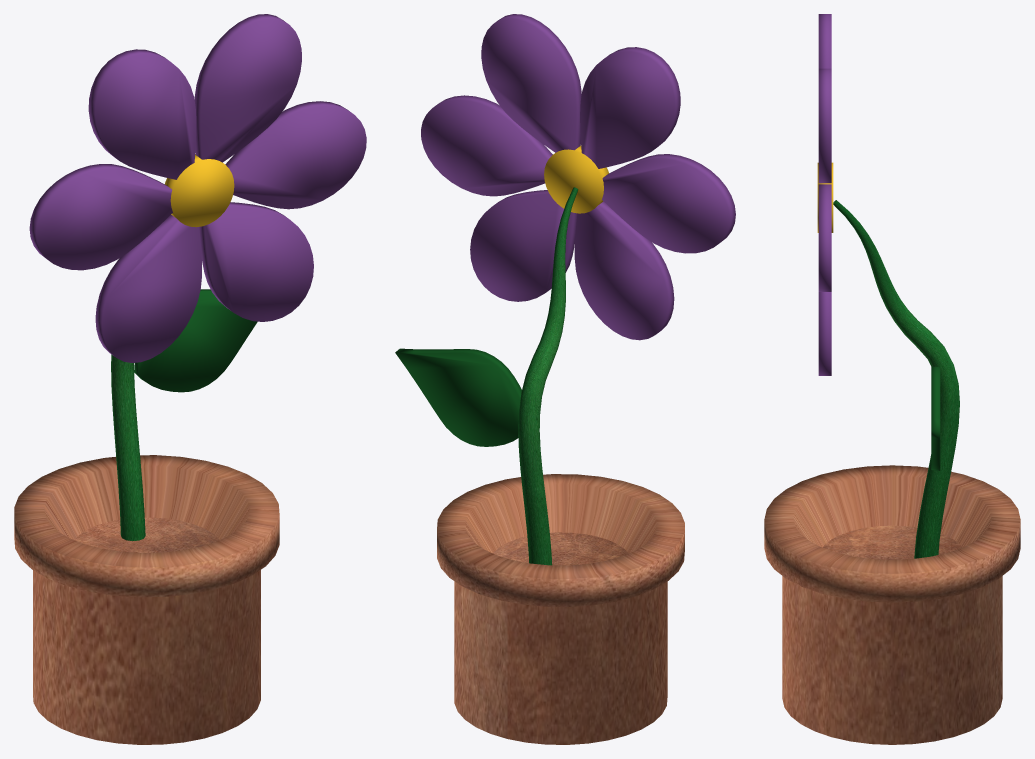
File: flower.obj
The picture shows the model from 3 angles, left to right: view 1: azimuth 30°, elevation 25°; view 2: azimuth 150°, elevation 25°; view 3: azimuth 270°, elevation 25°; orthographic projection. The views are drawn at different scales.
Parts seen in each view (by area): view 1: maceta, tallo; view 2: maceta, tallo; view 3: maceta, tallo.
Boxes of the visible parts, x1=… form: maceta: x1=14, y1=14, x2=366, y2=744; tallo: x1=111, y1=354, x2=145, y2=541; maceta: x1=395, y1=14, x2=735, y2=744; tallo: x1=518, y1=187, x2=578, y2=565; maceta: x1=764, y1=14, x2=1020, y2=744; tallo: x1=833, y1=200, x2=959, y2=558.
Bounding box in the file's own units: 3.34 × 6.62 × 2.32.
